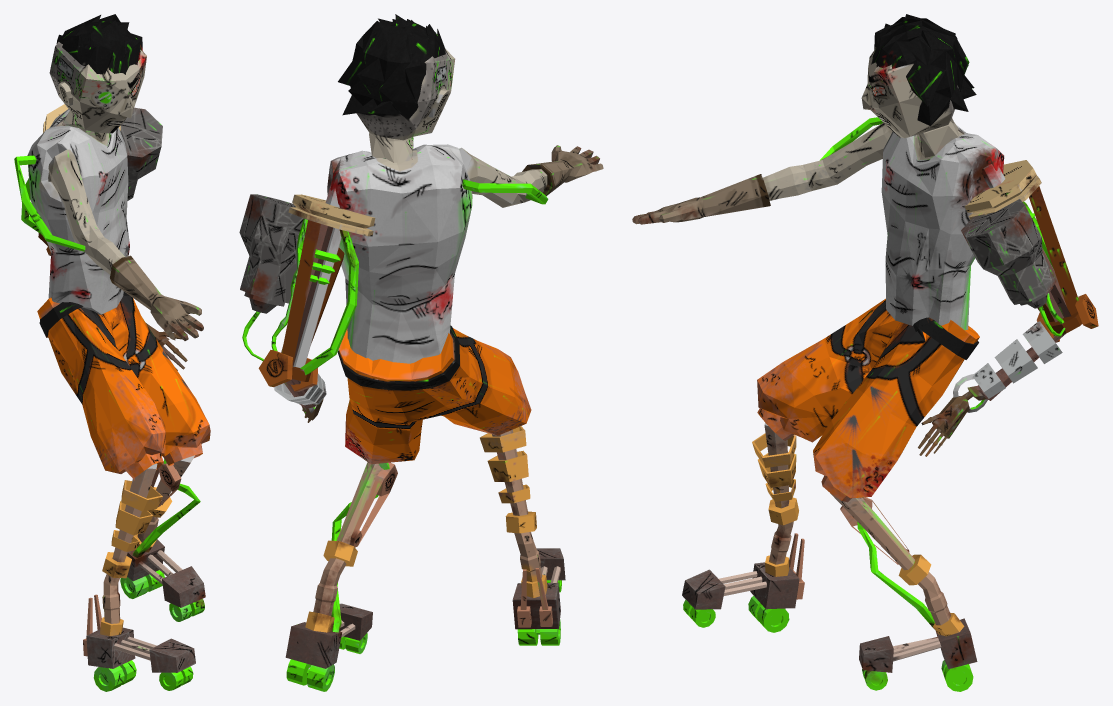
File: CyborgFINALAnimation_000007.obj
3 renders of one model, left to right at view 1: azimuth 30°, elevation 25°; view 2: azimuth 150°, elevation 25°; view 3: azimuth 270°, elevation 25°, orthographic. The views are drawn at different scales.
Visible parts, largest first — view 1: CyborgMesh_Cube.002; view 2: CyborgMesh_Cube.002; view 3: CyborgMesh_Cube.002.
Boxes of the visible parts, box(x1,y1,x2,y2) form: CyborgMesh_Cube.002: box(14, 14, 210, 691); CyborgMesh_Cube.002: box(239, 14, 603, 691); CyborgMesh_Cube.002: box(632, 14, 1098, 691).
Size of the model in its own units: 3.04 by 8.89 by 5.9.
